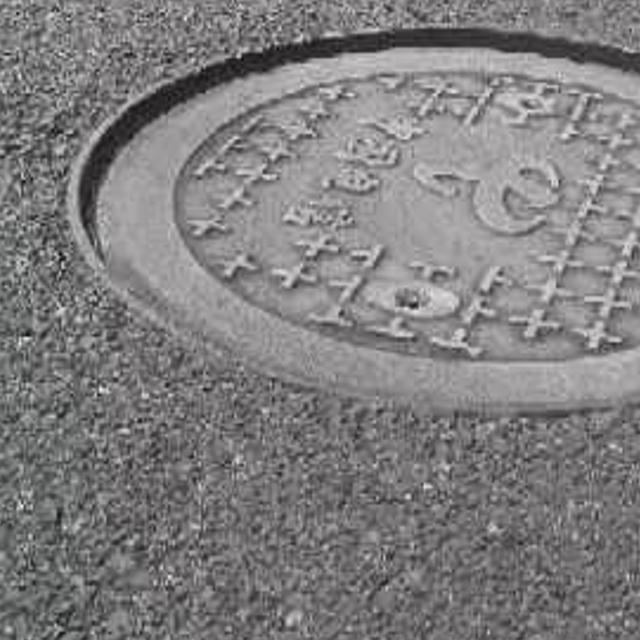good: (54, 0, 640, 461)
